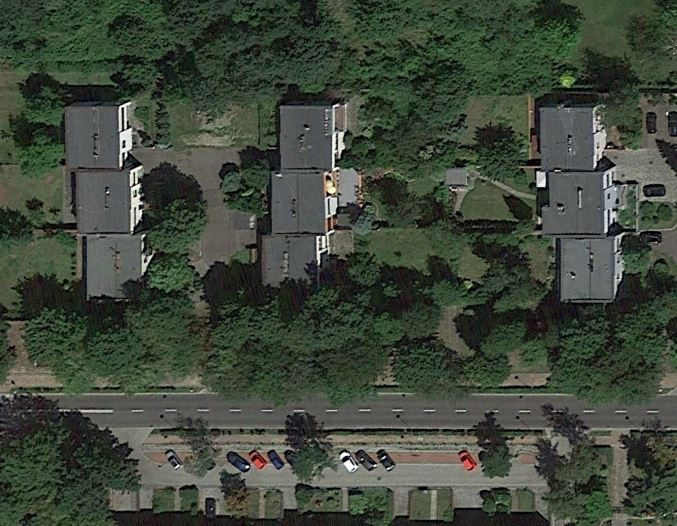block of flats: (60, 85, 156, 308), (531, 100, 632, 309), (252, 95, 351, 299)
